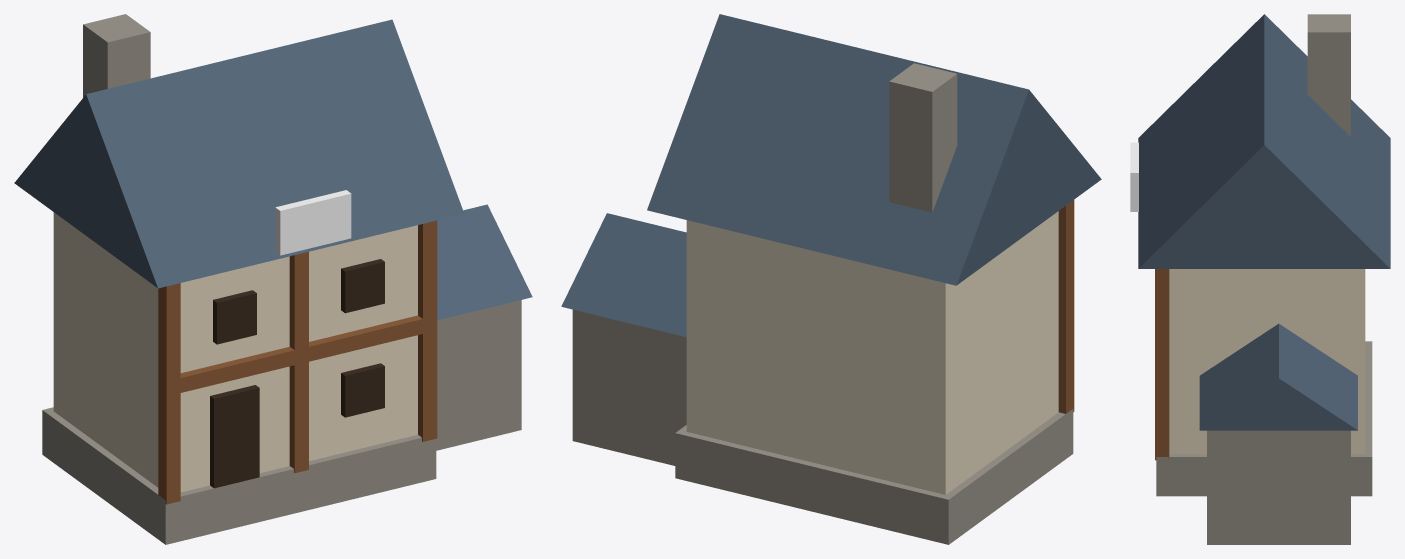
The model's file is house_b.glb.
The picture shows the model from 3 angles, left to right: view 1: azimuth 30°, elevation 25°; view 2: azimuth 150°, elevation 25°; view 3: azimuth 270°, elevation 25°; orthographic projection. The views are drawn at different scales.
Parts seen in each view (by area): view 1: house_b; view 2: house_b; view 3: house_b.
Part boxes in pixels (x1,y1,x2,y2): house_b: [14, 14, 532, 544]; house_b: [561, 14, 1101, 544]; house_b: [1130, 14, 1390, 544].
Size of the model in its own units: 2.88 by 2.9 by 1.8.
